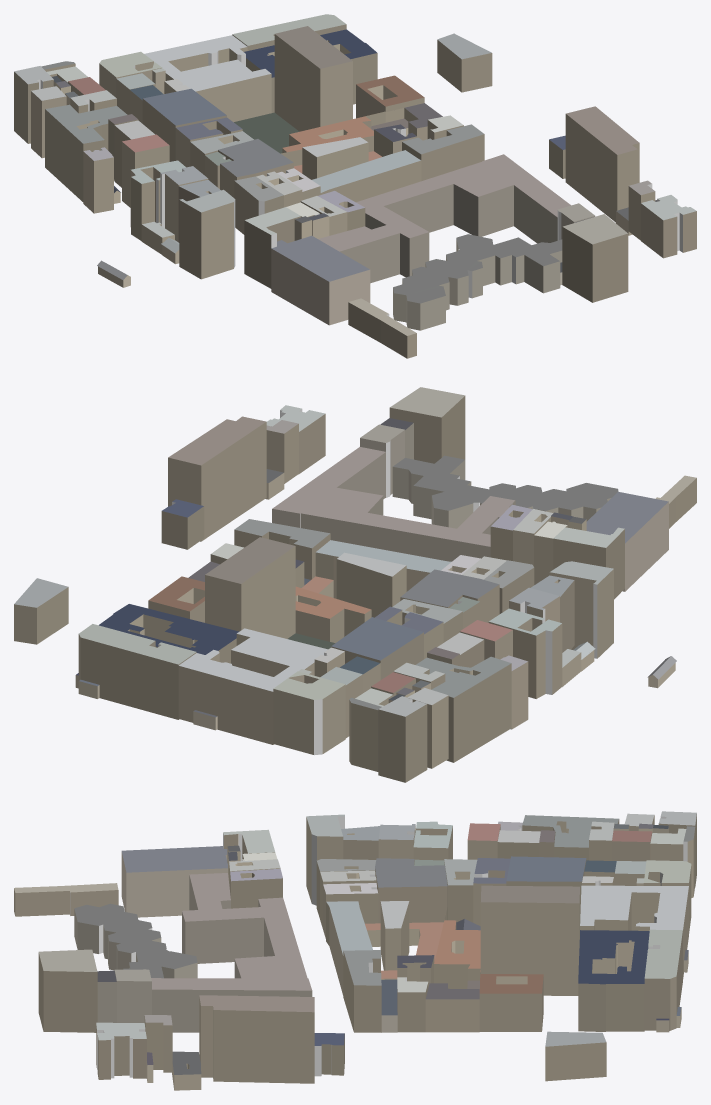
3 views of the same model, one above another, from view 1: azimuth 30°, elevation 25°; view 2: azimuth 150°, elevation 25°; view 3: azimuth 270°, elevation 25° (orthographic). The views are drawn at different scales.
Visible parts, largest first — view 1: tuile; view 2: tuile; view 3: tuile.
Boxes of the visible parts, bbox=[...] form: tuile: bbox=[14, 14, 696, 358]; tuile: bbox=[14, 387, 696, 782]; tuile: bbox=[14, 811, 696, 1090].
Size of the model in its own units: 210 by 41.52 by 248.
